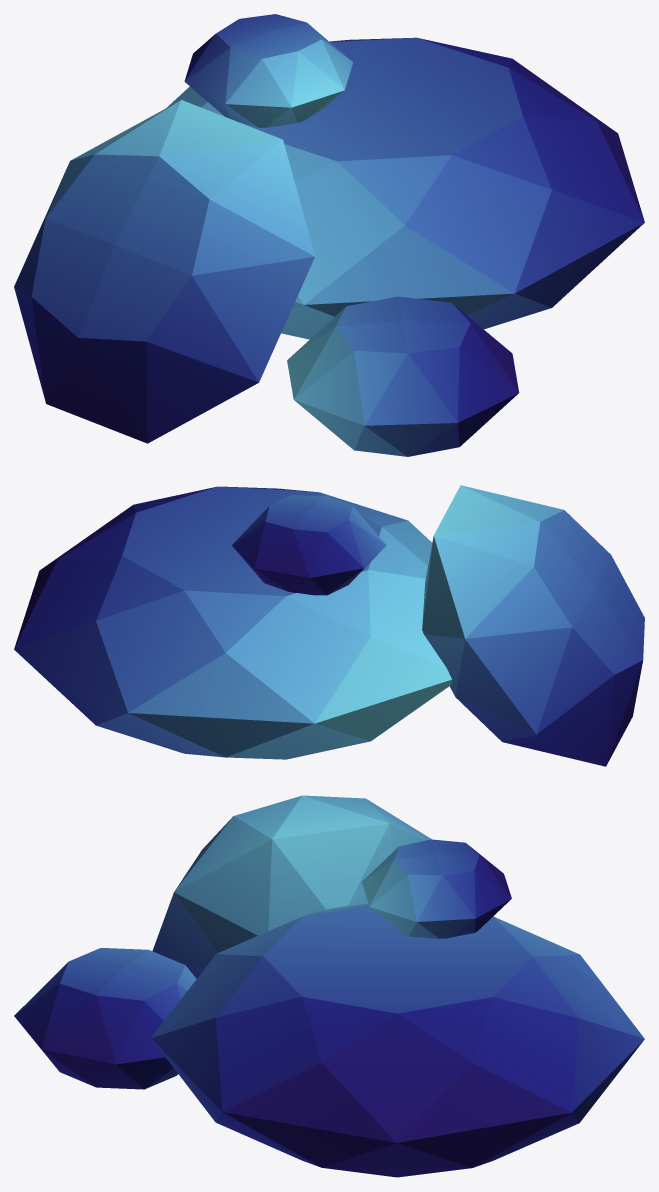
Rendered from Sapphire_04.glb.
3 renders of one model, top to bottom at view 1: azimuth 30°, elevation 25°; view 2: azimuth 150°, elevation 25°; view 3: azimuth 270°, elevation 25°, orthographic. The views are drawn at different scales.
Parts seen in each view (by area): view 1: Sapphire_04; view 2: Sapphire_04; view 3: Sapphire_04.
Part boxes in pixels (bbox=[...]): Sapphire_04: bbox=[14, 14, 644, 456]; Sapphire_04: bbox=[14, 485, 644, 766]; Sapphire_04: bbox=[14, 795, 644, 1177].
Size of the model in its own units: 0.5109 by 0.208 by 0.5081.
Materials: 1 (1 with a texture image).
